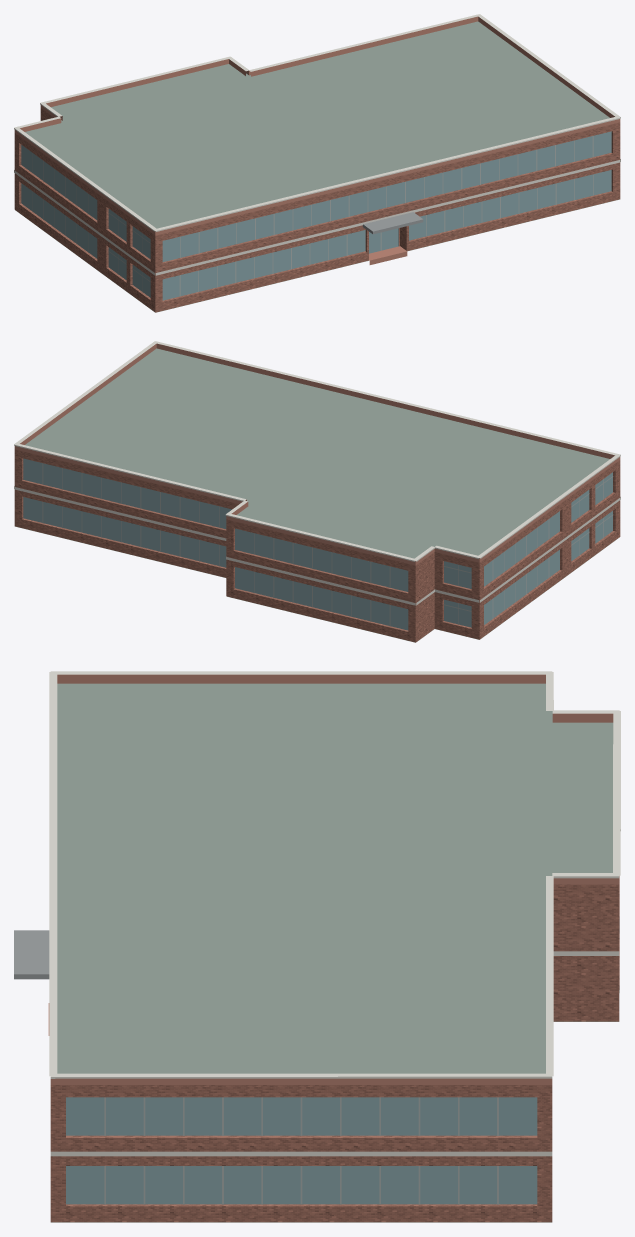
The picture shows the model from 3 angles, top to bottom: view 1: azimuth 30°, elevation 25°; view 2: azimuth 150°, elevation 25°; view 3: azimuth 270°, elevation 25°; orthographic projection. The views are drawn at different scales.
Visible parts, largest first — view 1: dorm-dining__roof, dorm-dining__glass, dorm-dining__wall, dorm-dining__trim, dorm-dining__parapet, dorm-dining__frame, dorm-dining__canopy, dorm-dining__entranceThreshold_0; view 2: dorm-dining__roof, dorm-dining__wall, dorm-dining__glass, dorm-dining__trim, dorm-dining__parapet, dorm-dining__frame; view 3: dorm-dining__roof, dorm-dining__wall, dorm-dining__glass, dorm-dining__trim, dorm-dining__parapet, dorm-dining__frame, dorm-dining__canopy.
Part boxes in pixels (x1,y1,x2,y2): dorm-dining__roof: [15, 21, 619, 312]; dorm-dining__glass: [21, 131, 611, 300]; dorm-dining__wall: [14, 108, 620, 312]; dorm-dining__trim: [14, 14, 620, 275]; dorm-dining__parapet: [14, 16, 620, 235]; dorm-dining__frame: [32, 136, 593, 296]; dorm-dining__canopy: [362, 212, 423, 234]; dorm-dining__entranceThreshold_0: [369, 246, 407, 264]; dorm-dining__roof: [15, 348, 619, 642]; dorm-dining__wall: [14, 449, 620, 642]; dorm-dining__glass: [23, 458, 612, 630]; dorm-dining__trim: [14, 341, 620, 605]; dorm-dining__parapet: [14, 343, 620, 565]; dorm-dining__frame: [42, 463, 613, 626]; dorm-dining__roof: [51, 683, 619, 1222]; dorm-dining__wall: [50, 876, 619, 1222]; dorm-dining__glass: [66, 1097, 537, 1204]; dorm-dining__trim: [49, 671, 620, 1156]; dorm-dining__parapet: [50, 674, 619, 1084]; dorm-dining__frame: [104, 1097, 498, 1204]; dorm-dining__canopy: [14, 930, 49, 979].
Bounding box in the file's own units: 44.4 × 7.85 × 28.09.
9 materials, 1 textured.
